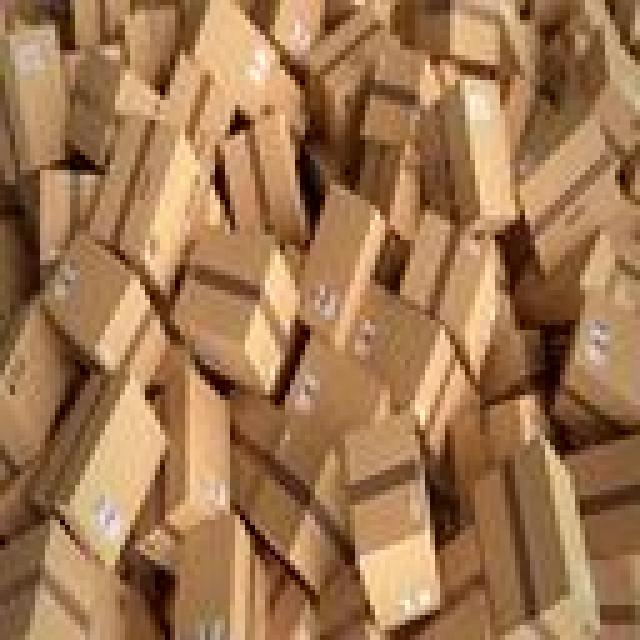cardboard: (0, 0, 635, 635), (225, 380, 355, 595), (220, 375, 350, 590), (85, 110, 220, 300), (345, 285, 475, 480), (25, 365, 165, 545), (470, 430, 585, 635), (360, 55, 460, 280), (165, 220, 300, 385), (120, 340, 225, 545), (340, 405, 435, 630), (390, 195, 505, 380), (510, 155, 635, 320), (510, 115, 635, 270), (545, 225, 635, 430), (170, 510, 315, 635), (175, 0, 305, 130), (515, 20, 635, 155), (0, 285, 90, 465), (360, 515, 490, 635), (35, 230, 150, 365), (405, 70, 505, 225), (285, 325, 395, 465), (295, 175, 385, 340), (0, 510, 115, 635), (210, 105, 305, 240), (55, 35, 160, 155), (0, 5, 60, 190), (450, 385, 545, 500), (310, 5, 390, 130), (560, 425, 635, 545), (355, 40, 445, 140), (20, 160, 95, 260), (480, 285, 545, 385), (520, 0, 635, 55), (385, 0, 500, 55), (490, 0, 540, 120), (245, 0, 330, 65), (320, 550, 375, 635), (585, 545, 635, 635), (115, 0, 175, 75), (115, 570, 170, 635), (0, 450, 40, 530), (295, 120, 340, 180), (65, 0, 125, 45), (320, 0, 390, 15)
